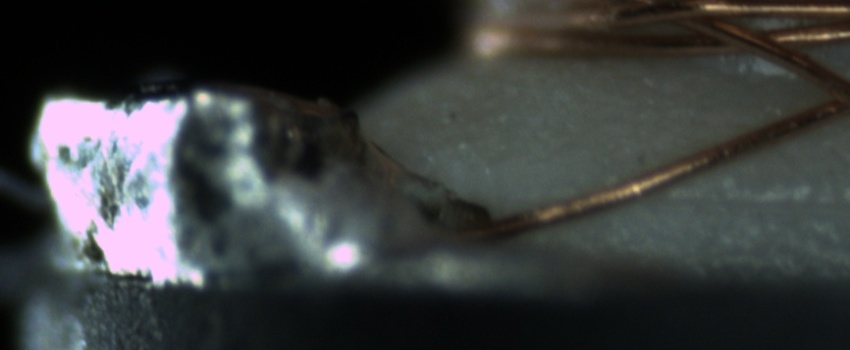CL: (801, 59, 849, 123)
DL: (616, 165, 850, 227)
